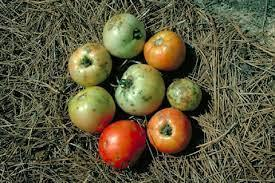tomato bacterial spot: (111, 62, 172, 130), (68, 86, 118, 136), (99, 121, 148, 171), (145, 31, 197, 78), (146, 109, 197, 155), (104, 14, 147, 61), (69, 44, 113, 88), (167, 79, 205, 112)
